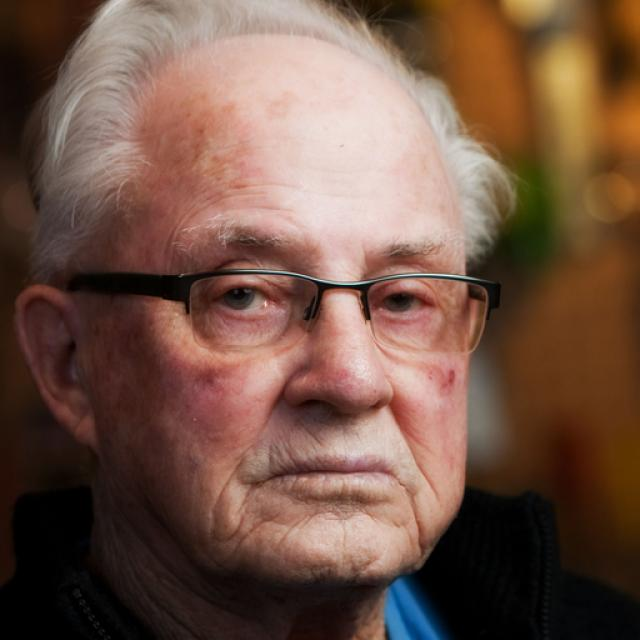Pigmentation: (140, 345, 260, 445), (416, 355, 462, 399)
